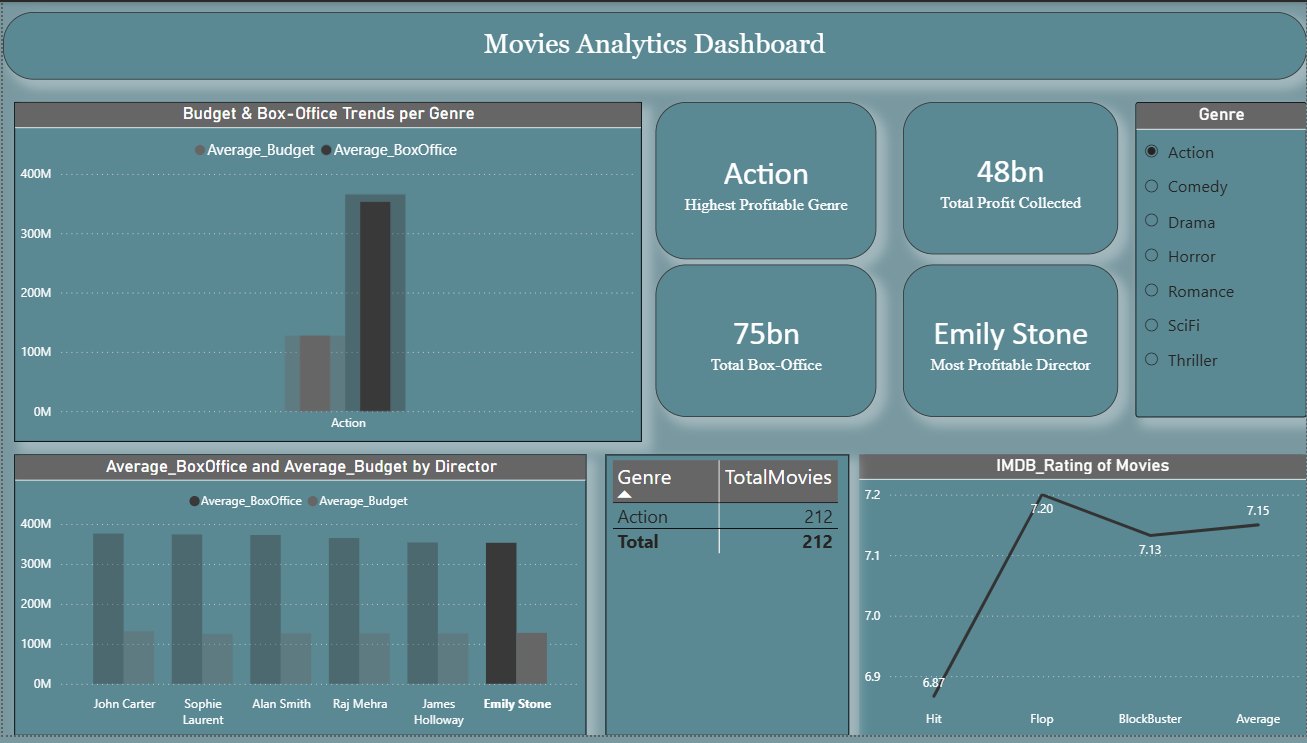

This screenshot's page, from the dashboard's own definition file:
{"tool":"powerbi","page":{"name":"Page 1","canvas":[1280,720],"ordinal":0},"visuals":[{"type":"textbox","box":[0,10,1279.8,66.3],"z":0},{"type":"clusteredColumnChart","title":"Budget & Box-Office Trends per Genre","fields":{"Category":["movies_dataset.Genre"],"Y":["movies_dataset.Average_Budget","movies_dataset.Average_BoxOffice"]},"box":[11,98.2,616,333.7],"z":1},{"type":"lineChart","title":"IMDB_Rating of Movies","fields":{"Category":["movies_dataset.Profit_Status"],"Y":["movies_dataset.Average_IMDB_Rating"]},"box":[840.5,444.2,439.3,276.1],"z":2},{"type":"card","fields":{"Values":["movies_dataset.Total_Profit"]},"box":[883.4,98.2,211,149.7],"z":3},{"type":"listSlicer","fields":{"Values":["movies_dataset.Genre"]},"box":[1111.7,98.2,168.1,309.2],"z":4},{"type":"card","fields":{"Values":["movies_dataset.Profitable_Director"]},"box":[883.4,257.7,211,149.7],"z":5},{"type":"clusteredColumnChart","fields":{"Category":["movies_dataset.Director"],"Y":["movies_dataset.Average_BoxOffice","movies_dataset.Average_Budget"]},"box":[11,444.2,562,276.1],"z":6},{"type":"tableEx","fields":{"Values":["movies_dataset.Genre","movies_dataset.TotalMovies"]},"box":[591.4,444.2,239.3,276.1],"z":7},{"type":"card","fields":{"Values":["movies_dataset.Top_Genre"]},"box":[640.5,98.2,217.2,154.6],"z":8},{"type":"card","fields":{"Values":["Sum(movies_dataset.Box_Office)"]},"box":[640.5,257.7,217.2,149.7],"z":9}]}

Visuals, with their boxes in screenshot pixels (x1, y1, x2, y2), scaled from the page's 1280x720 canvas onto the 1307x743 screenshot:
textbox: crop(0, 10, 1306, 79)
"Budget & Box-Office Trends per Genre" clusteredColumnChart: crop(11, 101, 640, 446)
"IMDB_Rating of Movies" lineChart: crop(858, 458, 1306, 742)
card - movies_dataset.Total_Profit: crop(902, 101, 1117, 256)
listSlicer - movies_dataset.Genre: crop(1135, 101, 1306, 420)
card - movies_dataset.Profitable_Director: crop(902, 266, 1117, 420)
clusteredColumnChart - movies_dataset.Director x movies_dataset.Average_BoxOffice: crop(11, 458, 585, 742)
tableEx - movies_dataset.Genre x movies_dataset.TotalMovies: crop(604, 458, 848, 742)
card - movies_dataset.Top_Genre: crop(654, 101, 876, 261)
card - Sum(movies_dataset.Box_Office): crop(654, 266, 876, 420)
